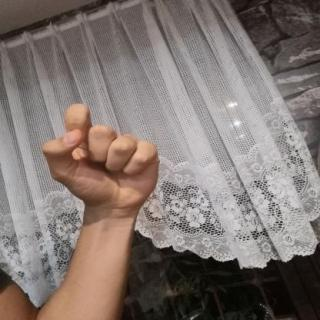FAA: (29, 95, 176, 217)
